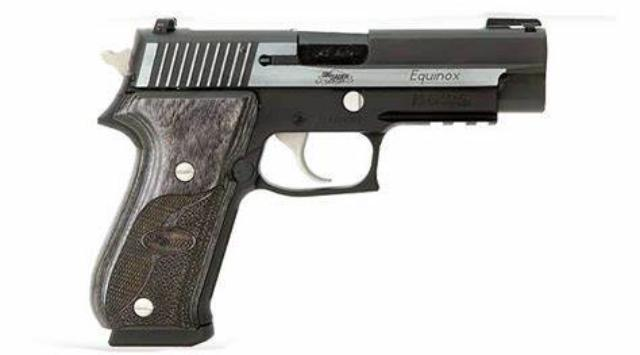handgun: (83, 12, 551, 352)
